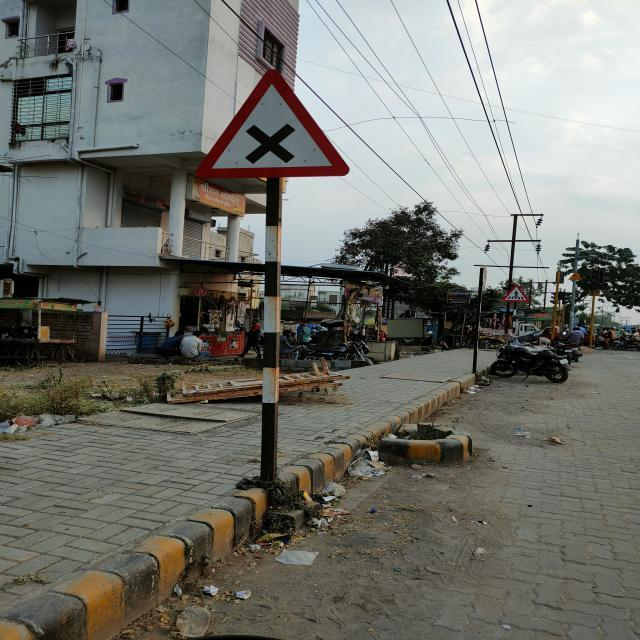cross road: (189, 66, 353, 184)
